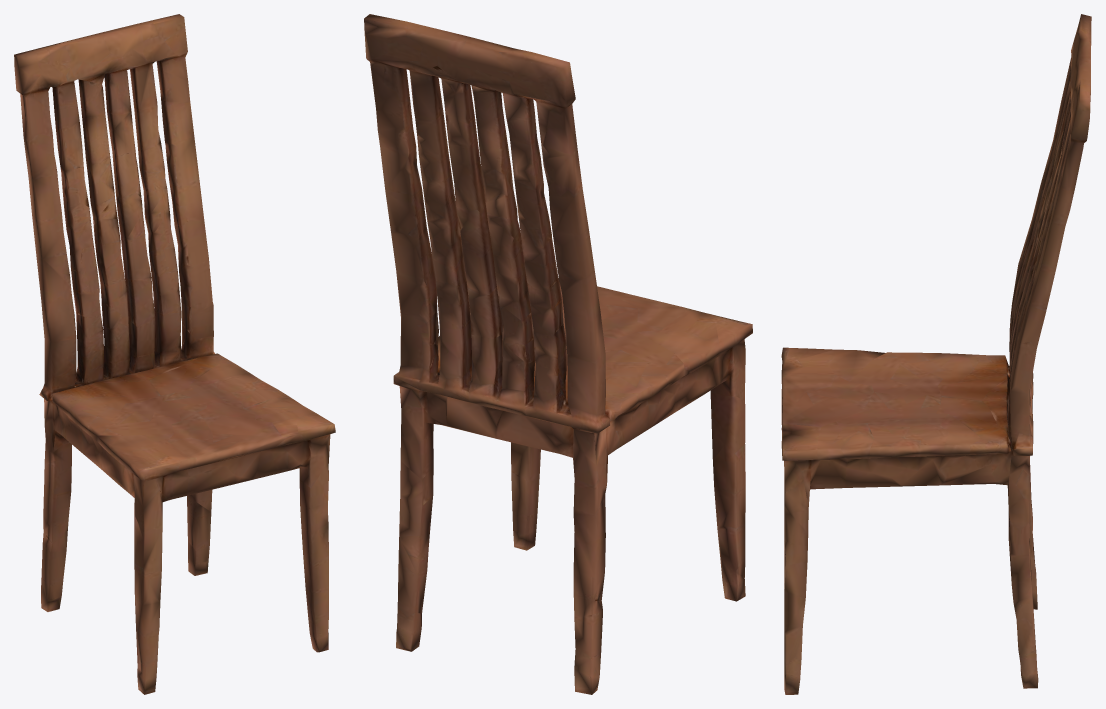
The model's file is uchr1.glb.
3 renders of one model, left to right at view 1: azimuth 30°, elevation 25°; view 2: azimuth 150°, elevation 25°; view 3: azimuth 270°, elevation 25°, orthographic. The views are drawn at different scales.
Size of the model in its own units: 0.7281 by 1.92 by 0.9147.
Materials: 1 (1 with a texture image).
